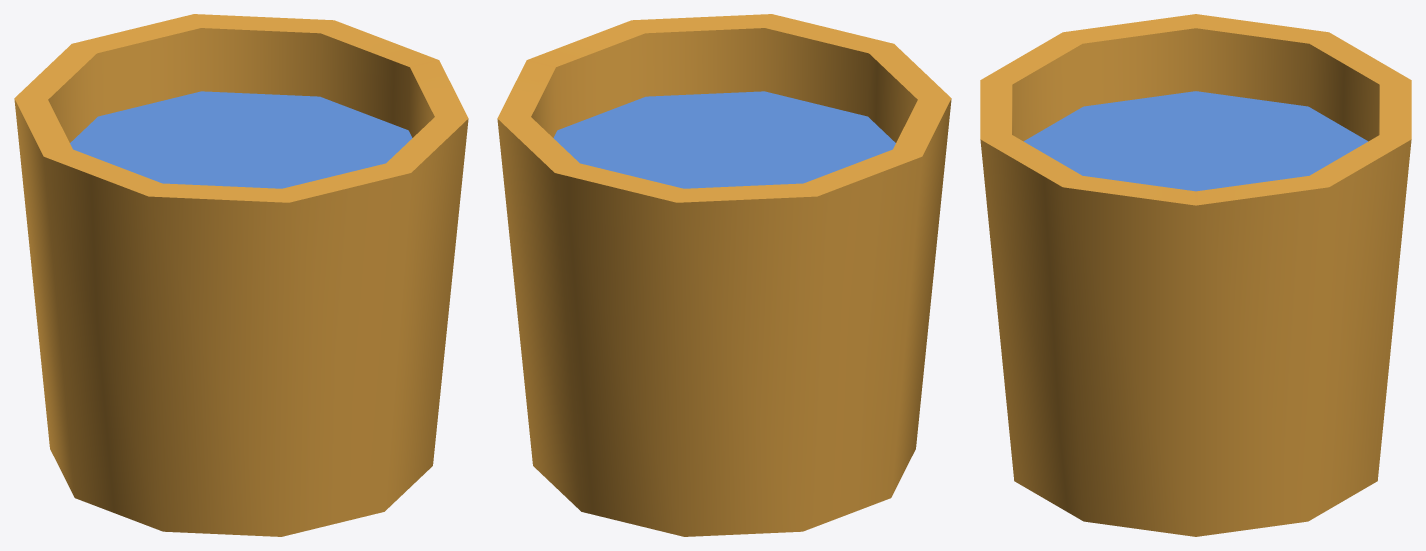
File: Bucket.fbx
The picture shows the model from 3 angles, left to right: view 1: azimuth 30°, elevation 25°; view 2: azimuth 150°, elevation 25°; view 3: azimuth 270°, elevation 25°; orthographic projection.
Visible parts, largest first — view 1: Bucket; view 2: Bucket; view 3: Bucket.
Part boxes in pixels (x1,y1,x2,y2): Bucket: [14, 14, 468, 536]; Bucket: [497, 14, 951, 536]; Bucket: [980, 14, 1411, 536].
Bounding box in the file's own units: 0.3813 × 0.3215 × 0.3626.
